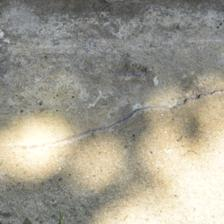Crack: (5, 44, 216, 111)
